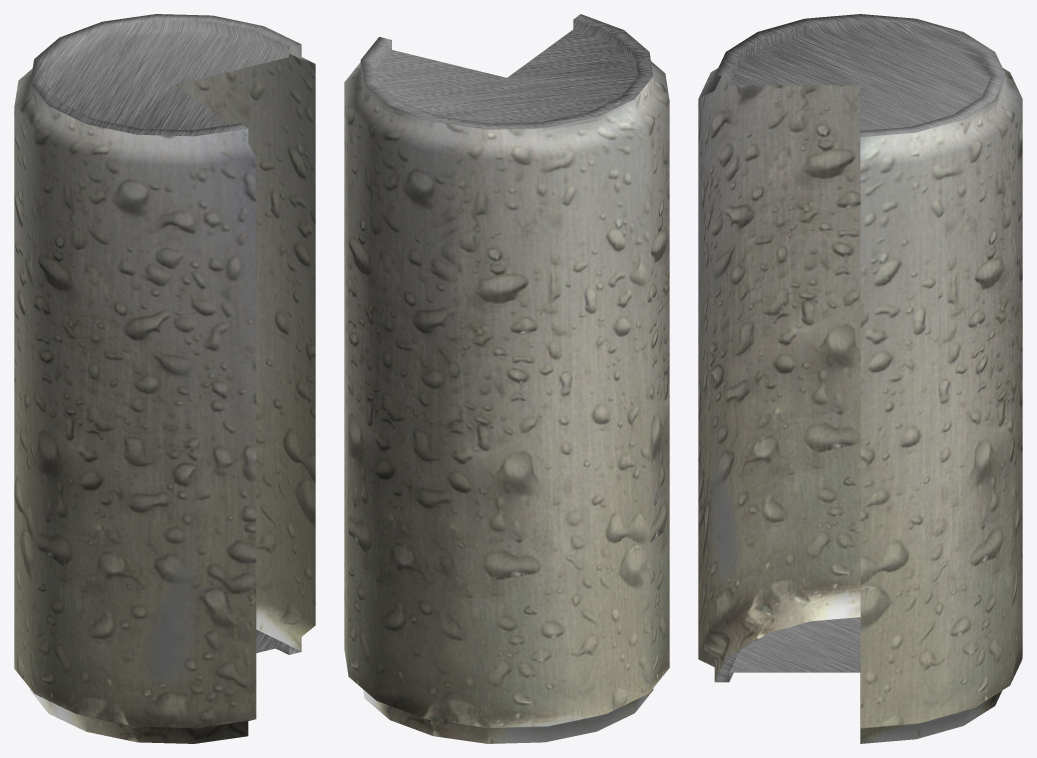
File: sign11.fbx
The picture shows the model from 3 angles, left to right: view 1: azimuth 30°, elevation 25°; view 2: azimuth 150°, elevation 25°; view 3: azimuth 270°, elevation 25°; orthographic projection.
Visible parts, largest first — view 1: Cylinder; view 2: Cylinder; view 3: Cylinder.
Part boxes in pixels (x1,y1,x2,y2): Cylinder: (14,14,315,743); Cylinder: (344,14,669,743); Cylinder: (698,14,1022,743).
Size of the model in its own units: 11.26 by 23.27 by 11.26.
